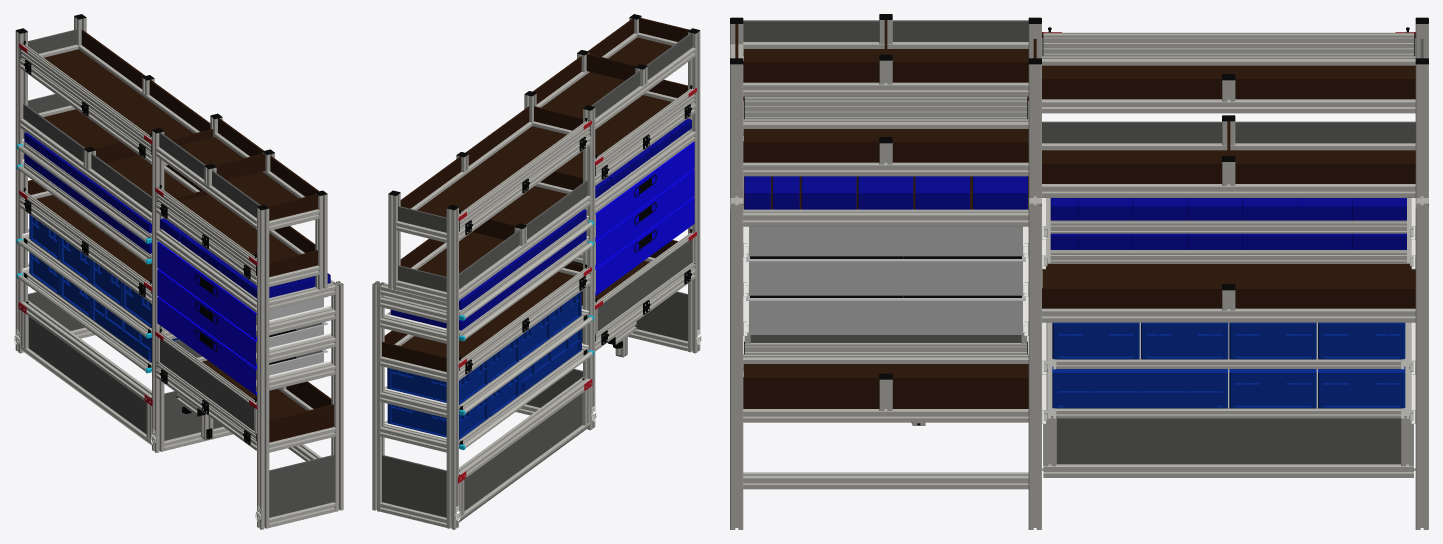
The picture shows the model from 3 angles, left to right: view 1: azimuth 30°, elevation 25°; view 2: azimuth 150°, elevation 25°; view 3: azimuth 270°, elevation 25°; orthographic projection. The views are drawn at different scales.
Parts seen in each view (by area): view 1: n0, n64, n78, n74, n76, n72, n2, n66, n46, n56, n8, n24 (+9 smaller); view 2: n0, n64, n78, n76, n74, n72, n2, n48, n66, n58, n46, n56 (+9 smaller); view 3: n0, n64, n74, n76, n2, n72, n62, n66, n78, n8, n24, n56 (+25 smaller).
Boxes of the visible parts, bbox=[...] form: n0: bbox=[14, 14, 343, 529]; n64: bbox=[18, 300, 152, 445]; n78: bbox=[155, 331, 257, 441]; n74: bbox=[157, 269, 327, 367]; n76: bbox=[157, 297, 327, 395]; n72: bbox=[157, 241, 327, 339]; n2: bbox=[19, 43, 152, 154]; n66: bbox=[155, 187, 257, 275]; n46: bbox=[16, 235, 151, 338]; n56: bbox=[16, 270, 151, 373]; n8: bbox=[16, 141, 151, 243]; n24: bbox=[16, 162, 151, 264]; n0: bbox=[372, 14, 701, 529]; n64: bbox=[458, 377, 592, 522]; n78: bbox=[595, 231, 696, 341]; n76: bbox=[571, 197, 694, 295]; n74: bbox=[573, 169, 694, 267]; n72: bbox=[595, 142, 694, 240]; n2: bbox=[458, 120, 591, 231]; n48: bbox=[387, 359, 488, 404]; n66: bbox=[595, 87, 696, 176]; n58: bbox=[387, 397, 488, 439]; n46: bbox=[384, 312, 594, 415]; n56: bbox=[384, 347, 594, 450]; n0: bbox=[730, 14, 1428, 529]; n64: bbox=[1043, 416, 1413, 477]; n74: bbox=[745, 254, 1026, 295]; n76: bbox=[745, 293, 1026, 334]; n2: bbox=[1042, 32, 1415, 56]; n72: bbox=[745, 226, 1026, 256]; n62: bbox=[1052, 366, 1227, 408]; n66: bbox=[743, 96, 1028, 119]; n78: bbox=[744, 333, 1027, 354]; n8: bbox=[1043, 198, 1413, 236]; n24: bbox=[1043, 233, 1413, 266]; n56: bbox=[1043, 366, 1413, 420].
Bounding box in the file's own units: 483 × 1717 × 2369.
